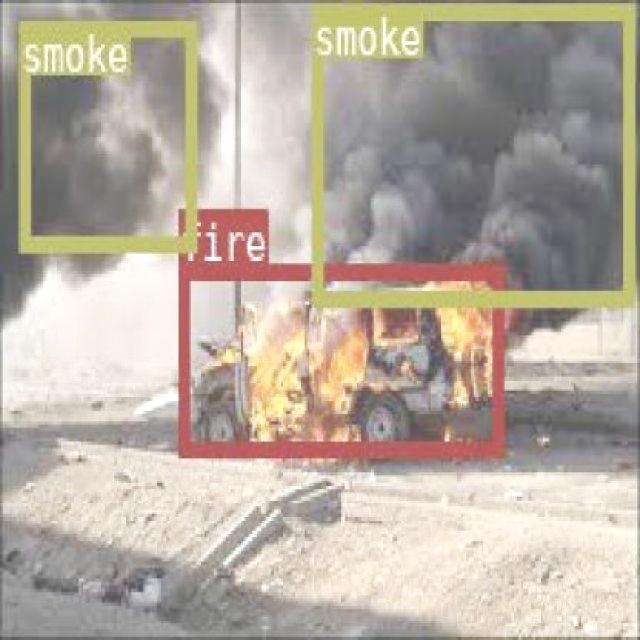fire: (178, 262, 502, 456)
smoke: (310, 1, 632, 304), (18, 19, 194, 247)
